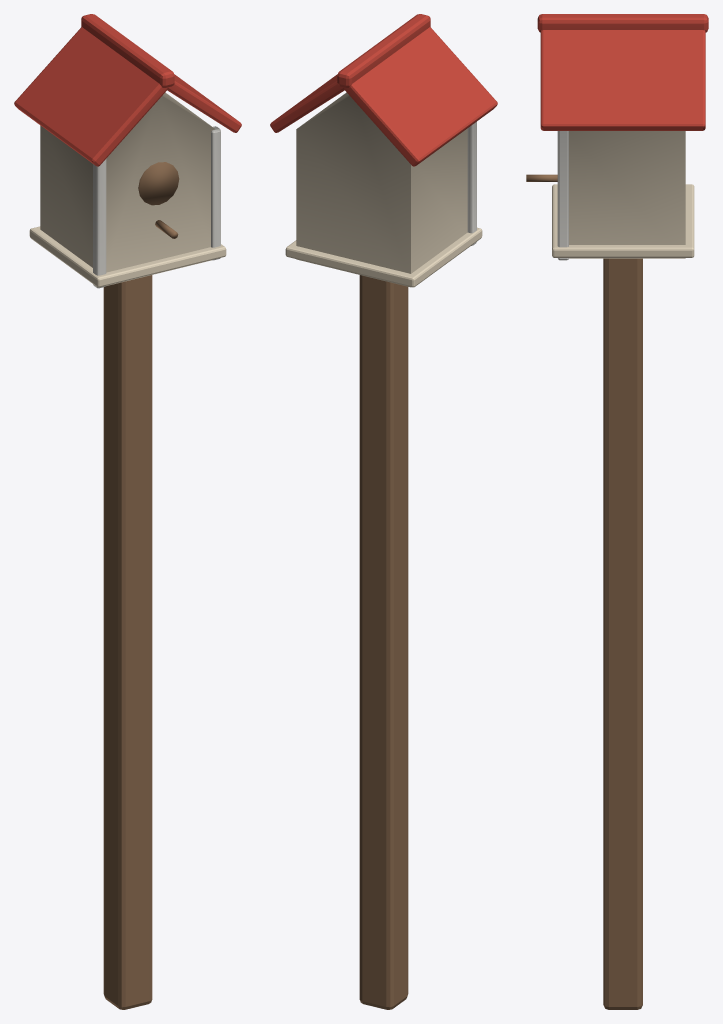
The model's file is birdhouse.glb.
3 renders of one model, left to right at view 1: azimuth 30°, elevation 25°; view 2: azimuth 150°, elevation 25°; view 3: azimuth 270°, elevation 25°, orthographic. The views are drawn at different scales.
Visible parts, largest first — view 1: birdhouse; view 2: birdhouse; view 3: birdhouse.
Boxes of the visible parts, left/top/right/bottom form: birdhouse: left=14, top=14, right=241, bottom=1009; birdhouse: left=270, top=14, right=497, bottom=1009; birdhouse: left=526, top=14, right=708, bottom=1009.
Size of the model in its own units: 0.3132 by 1.91 by 0.32.
